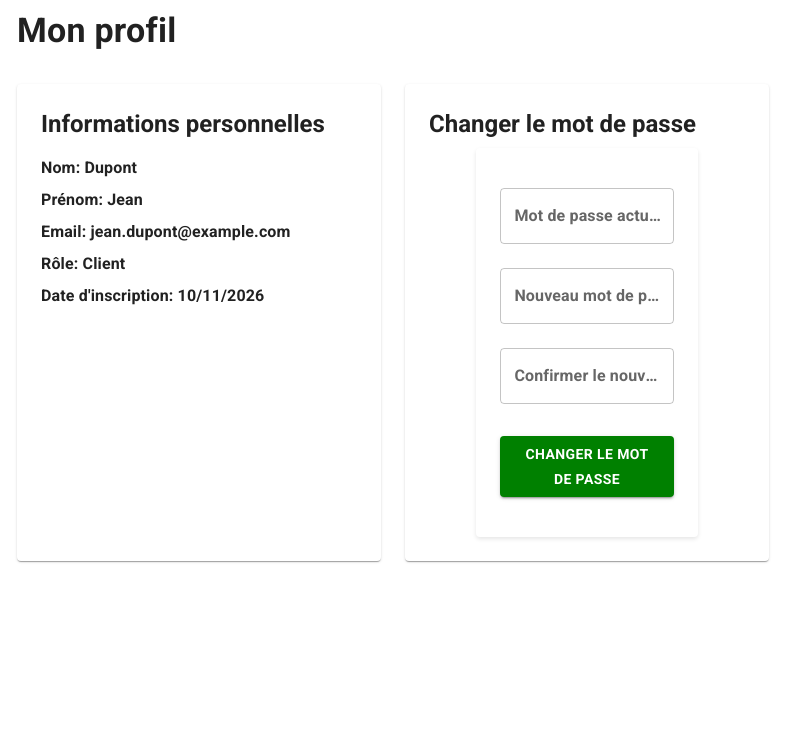
ProfilePage › shows error when password format is invalid
# Fill the form with a weak password
Type "CurrentPassword123!" into the password field labelled "Mot de passe actuel *".
click(587, 216); type("CurrentPassword123!")  # box [500,188,674,244]
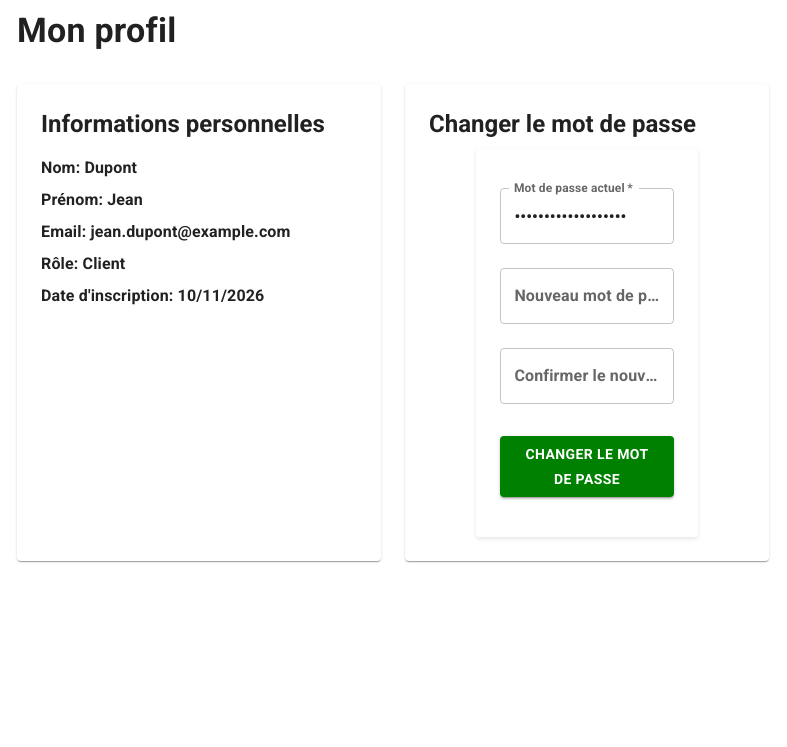
Type "weak" into the password field labelled "Nouveau mot de passe *".
click(587, 296); type("weak")  # box [500,268,674,324]
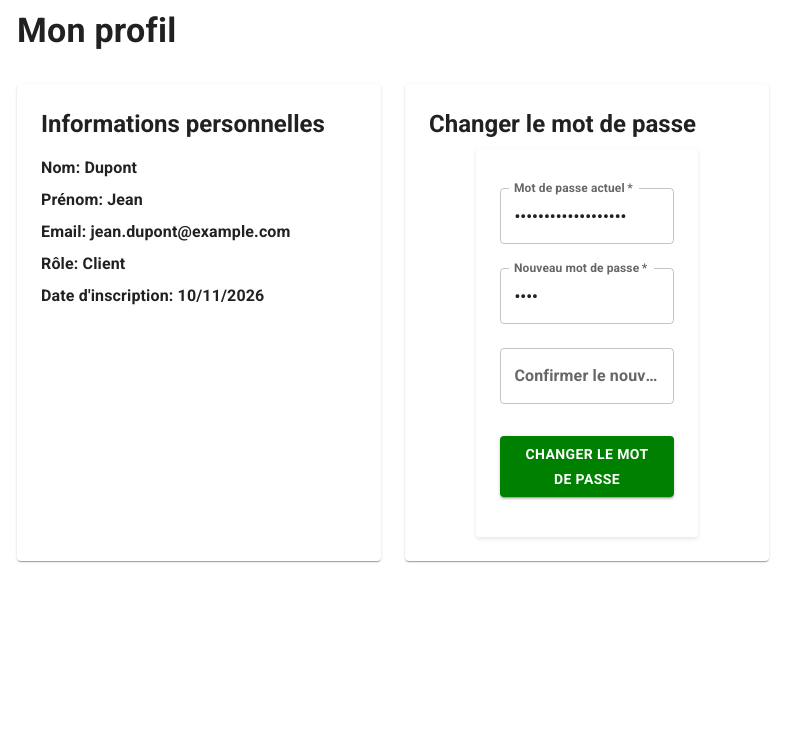
Type "weak" into the password field labelled "Confirmer le nouveau mot de passe *".
click(587, 376); type("weak")  # box [500,348,674,404]
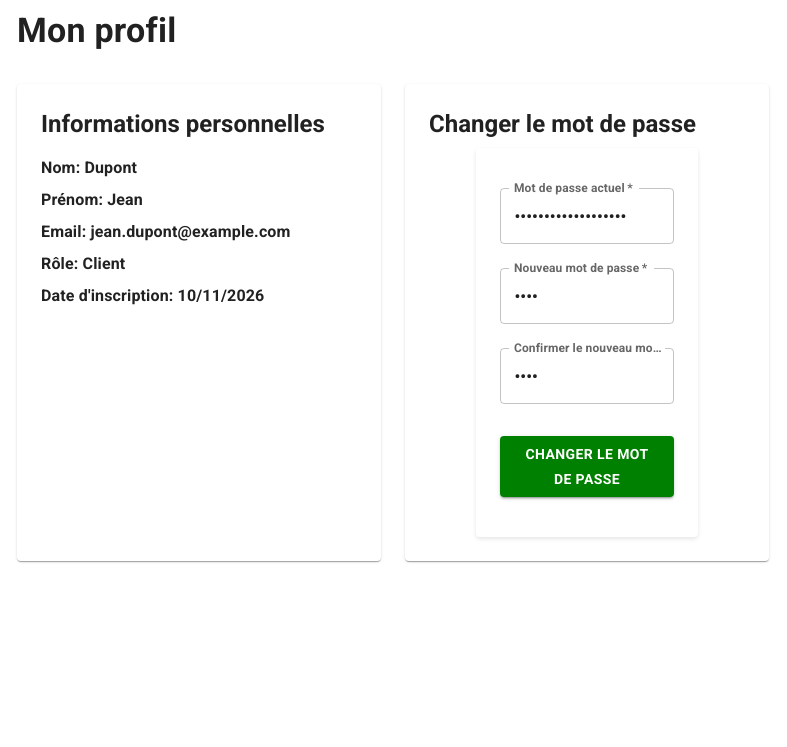
# Submit the form
Click the button "Changer le mot de passe".
click(587, 467)  # box [500,436,674,497]
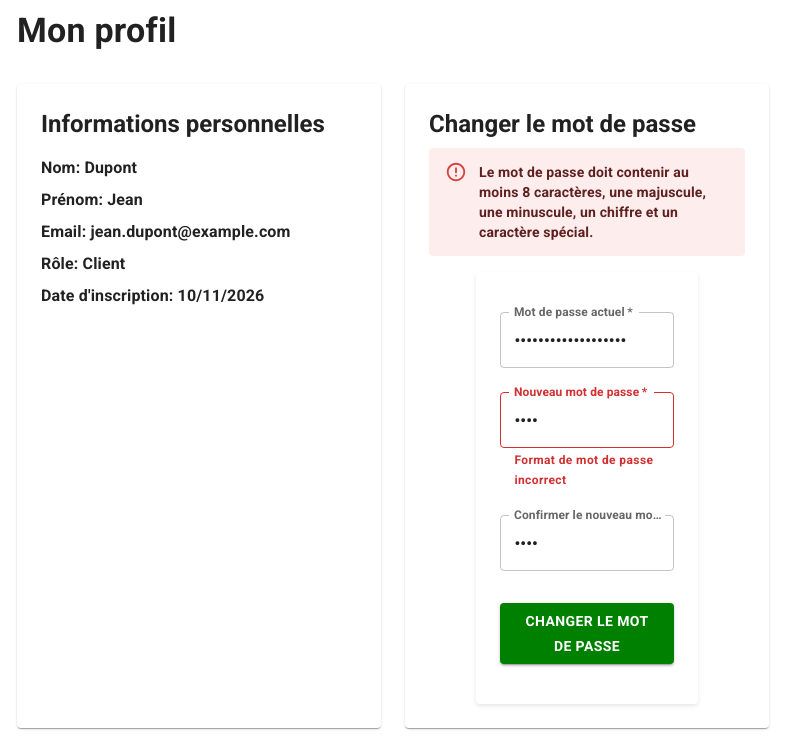
Expected: the text "Le mot de passe doit contenir au moins 8 caractères, une majuscule, une minuscule, un chiffre et un caractère spécial" is shown, [479,164,706,240]
